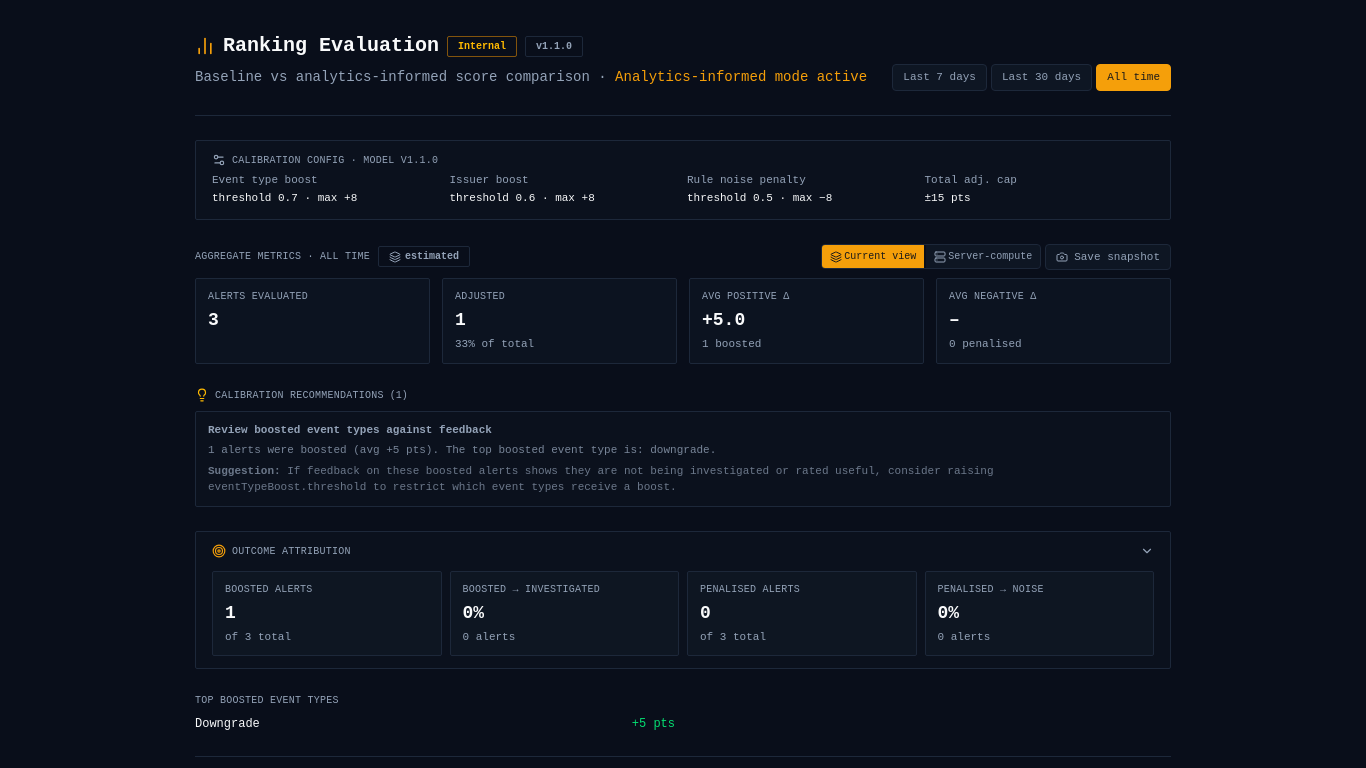
Scenario: RankingEvalPage – time window filtering › shows fewer alerts when a narrower time window is selected
The image size is (1366, 768).
Expected: the text "3" is shown, [208,310,219,330]
Click the button "Last 7 days": coordinates (940, 77) [892,64,987,90]
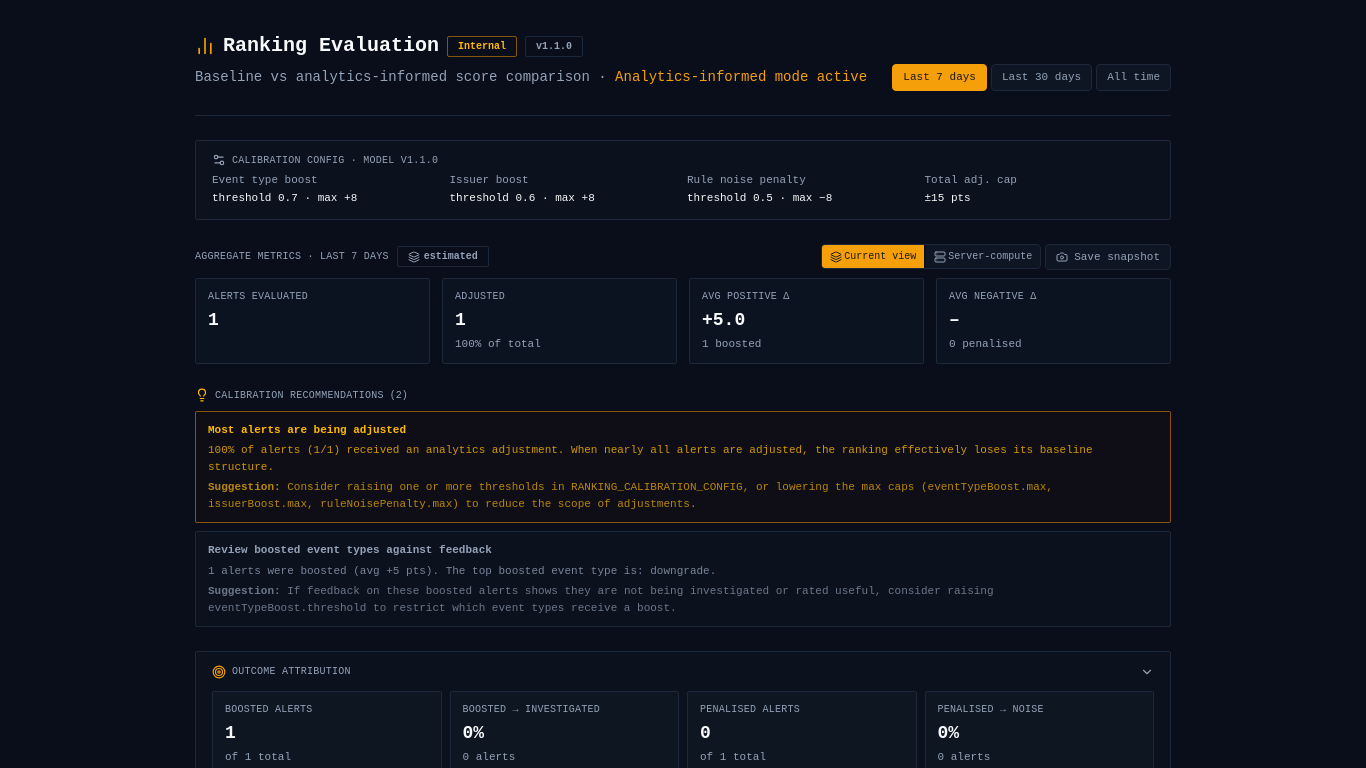
Expected: the text "1" below "Alerts evaluated" is shown, [208,310,219,330]
